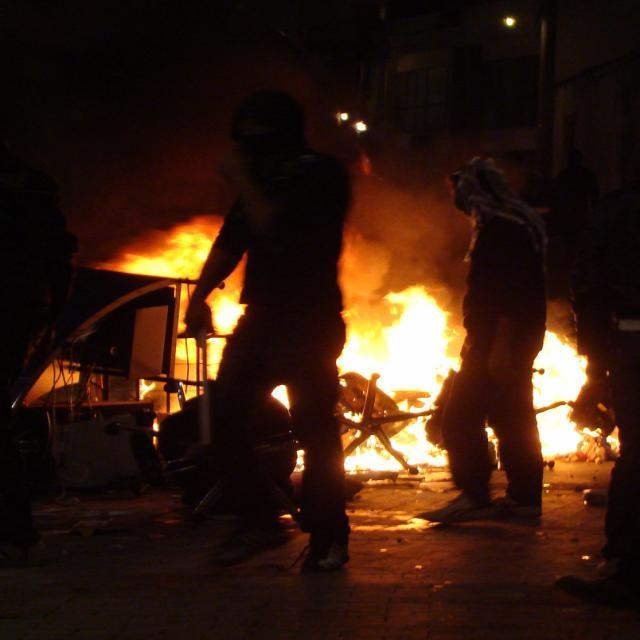Fire: (382, 289, 450, 388), (543, 339, 581, 461), (145, 233, 215, 273), (221, 296, 241, 334)
